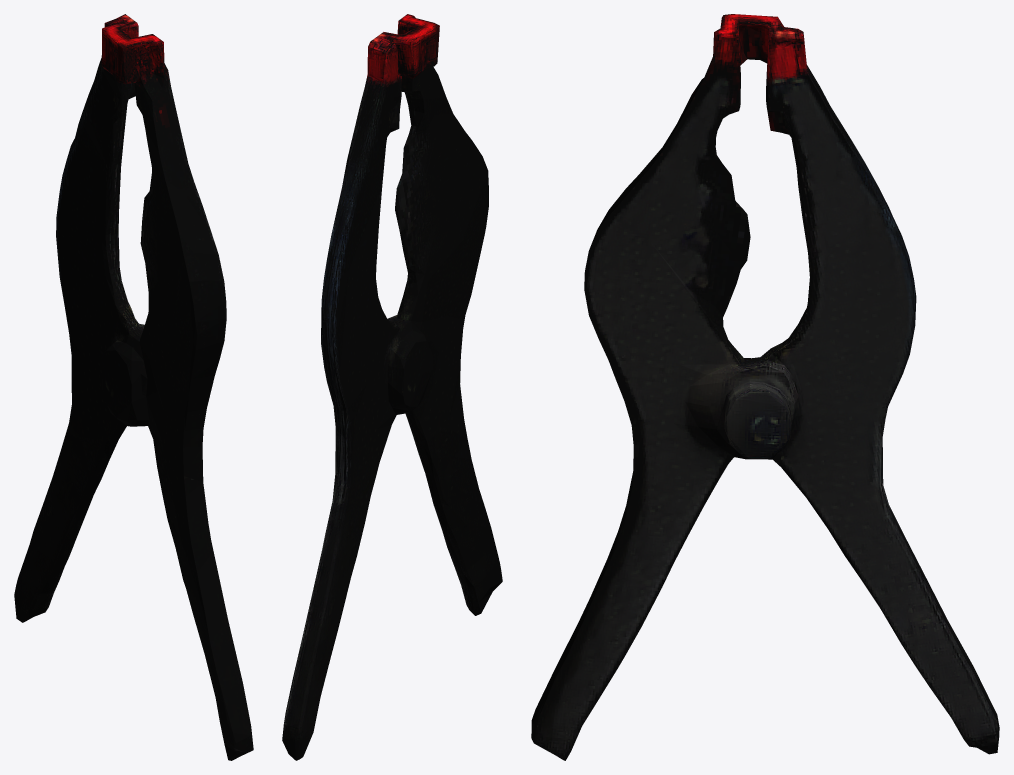
The model's file is sample.glb.
3 renders of one model, left to right at view 1: azimuth 30°, elevation 25°; view 2: azimuth 150°, elevation 25°; view 3: azimuth 270°, elevation 25°, orthographic. The views are drawn at different scales.
Visible parts, largest first — view 1: world; view 2: world; view 3: world.
Boxes of the visible parts, x1,y1,x2,y2 form: world: (14,14,253,760); world: (282,14,502,760); world: (531,14,999,760).
Size of the model in its own units: 0.0512 by 0.539 by 0.3133.
Materials: 1 (1 with a texture image).
